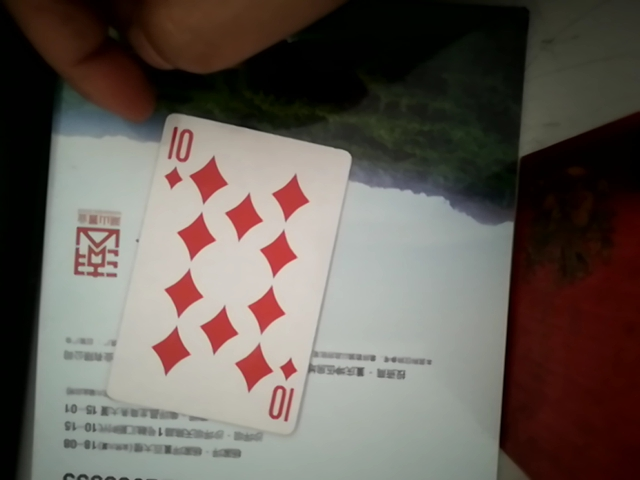fk 10: (112, 112, 343, 441)
